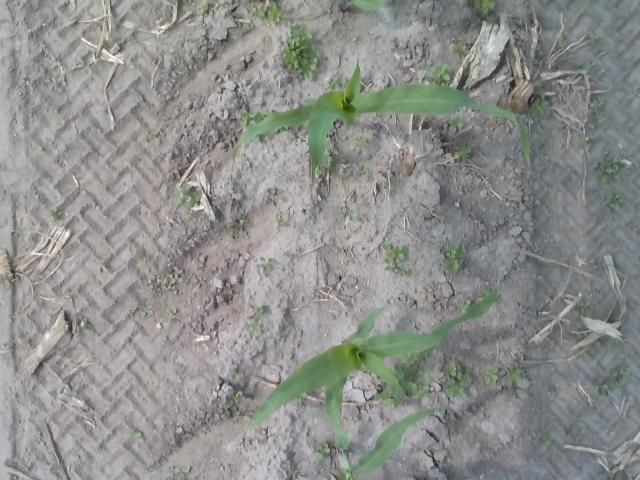Maize: (230, 58, 532, 195), (243, 288, 498, 438), (331, 408, 446, 480), (340, 0, 383, 12)
Weeds: (282, 36, 320, 80), (444, 361, 472, 398), (440, 244, 466, 272), (255, 2, 284, 24), (600, 156, 622, 184), (382, 244, 407, 264), (427, 64, 452, 84), (376, 389, 396, 407), (174, 183, 190, 204), (530, 100, 548, 118), (173, 466, 196, 480), (396, 364, 418, 378), (292, 24, 312, 39), (474, 1, 495, 15), (506, 369, 522, 387), (186, 188, 202, 206), (328, 72, 344, 90), (448, 116, 464, 134), (484, 366, 499, 385), (593, 376, 609, 392), (314, 443, 330, 459), (402, 355, 426, 365), (260, 256, 276, 270), (239, 110, 254, 124), (248, 319, 261, 335), (588, 101, 604, 114), (344, 204, 356, 221), (454, 41, 470, 53), (138, 305, 154, 317), (356, 136, 370, 149), (230, 390, 245, 402), (418, 384, 430, 398), (604, 196, 616, 210), (558, 34, 570, 47), (584, 134, 597, 146), (459, 146, 471, 159), (78, 316, 89, 330), (614, 190, 625, 204), (324, 150, 332, 168), (128, 428, 142, 438), (579, 300, 593, 310), (240, 214, 251, 226), (166, 309, 178, 320), (404, 380, 417, 390), (133, 249, 146, 259), (620, 367, 634, 376), (256, 306, 268, 316), (166, 278, 176, 290), (384, 266, 398, 274), (568, 426, 579, 436), (198, 3, 210, 12), (576, 64, 589, 72), (49, 210, 59, 220), (337, 158, 347, 168), (148, 276, 156, 288), (230, 371, 240, 380), (233, 412, 242, 422), (460, 300, 470, 309), (145, 131, 153, 142), (590, 33, 598, 44), (51, 57, 58, 69), (543, 434, 551, 444), (346, 174, 356, 182), (228, 220, 238, 228), (400, 270, 413, 276), (278, 218, 286, 226), (549, 384, 557, 392), (184, 210, 193, 217), (361, 166, 368, 175), (168, 268, 174, 278), (52, 70, 59, 78), (616, 378, 623, 386), (483, 286, 490, 294), (99, 266, 108, 272), (301, 406, 311, 411), (599, 116, 606, 123), (606, 344, 614, 350), (610, 317, 619, 322), (577, 333, 586, 338), (573, 311, 580, 317), (558, 123, 566, 128), (612, 372, 618, 377), (586, 8, 592, 13), (542, 139, 548, 144), (584, 352, 588, 357), (187, 0, 192, 4), (334, 150, 338, 155), (270, 434, 275, 437)
